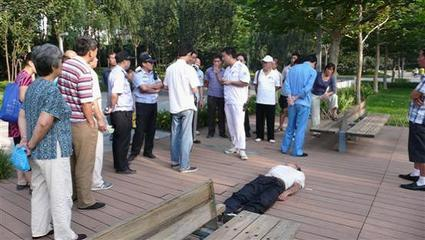fall: (213, 155, 311, 219)
